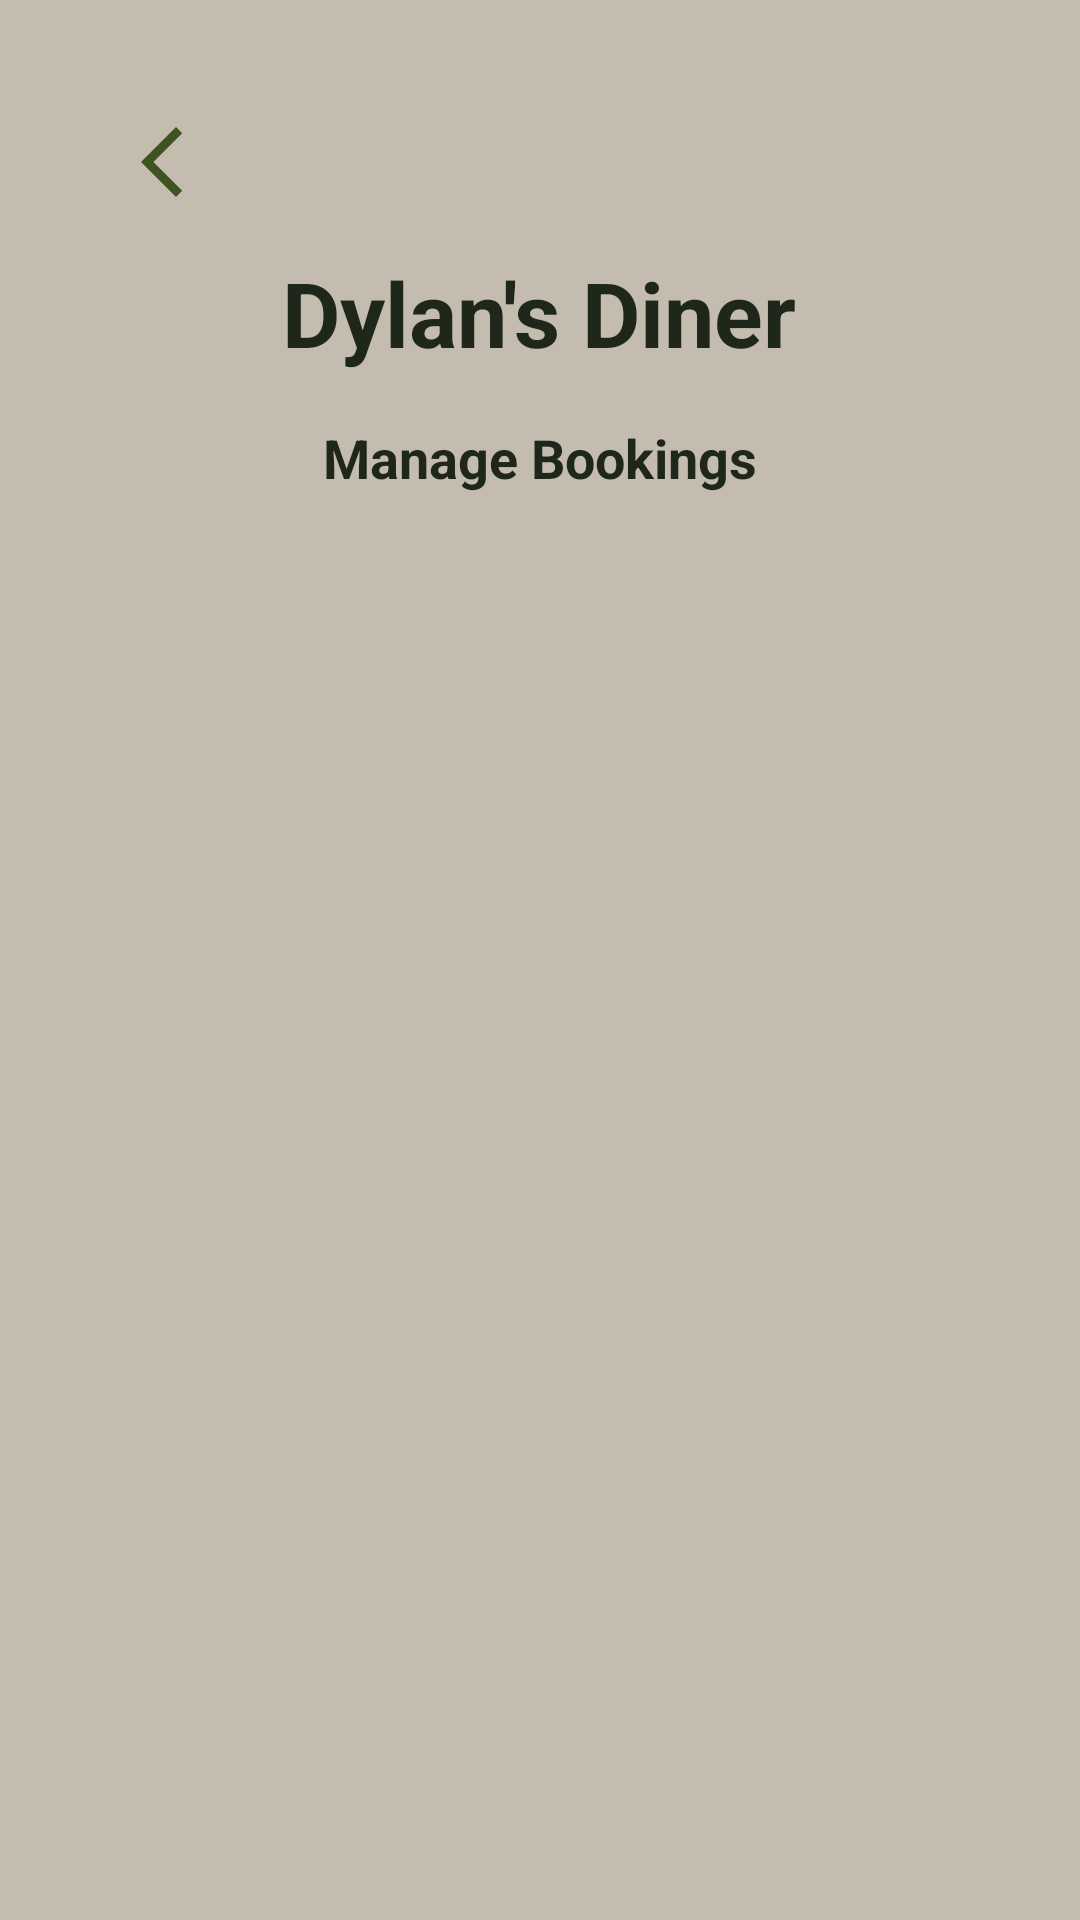

Locate icon controls on the screen. Image size 1080x1920, boxes as (x1, y1, x2, y2).
Back: (141, 127, 182, 197)
